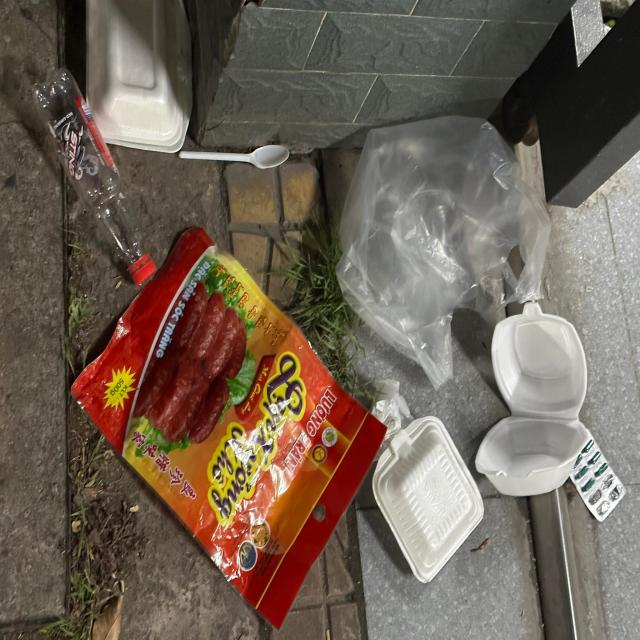bag: (336, 116, 552, 390)
bottle: (29, 69, 157, 284)
foam box: (476, 302, 589, 498), (370, 416, 484, 584), (85, 2, 194, 154)
plastic utensil: (180, 146, 290, 170)
snack package: (72, 224, 387, 632)
